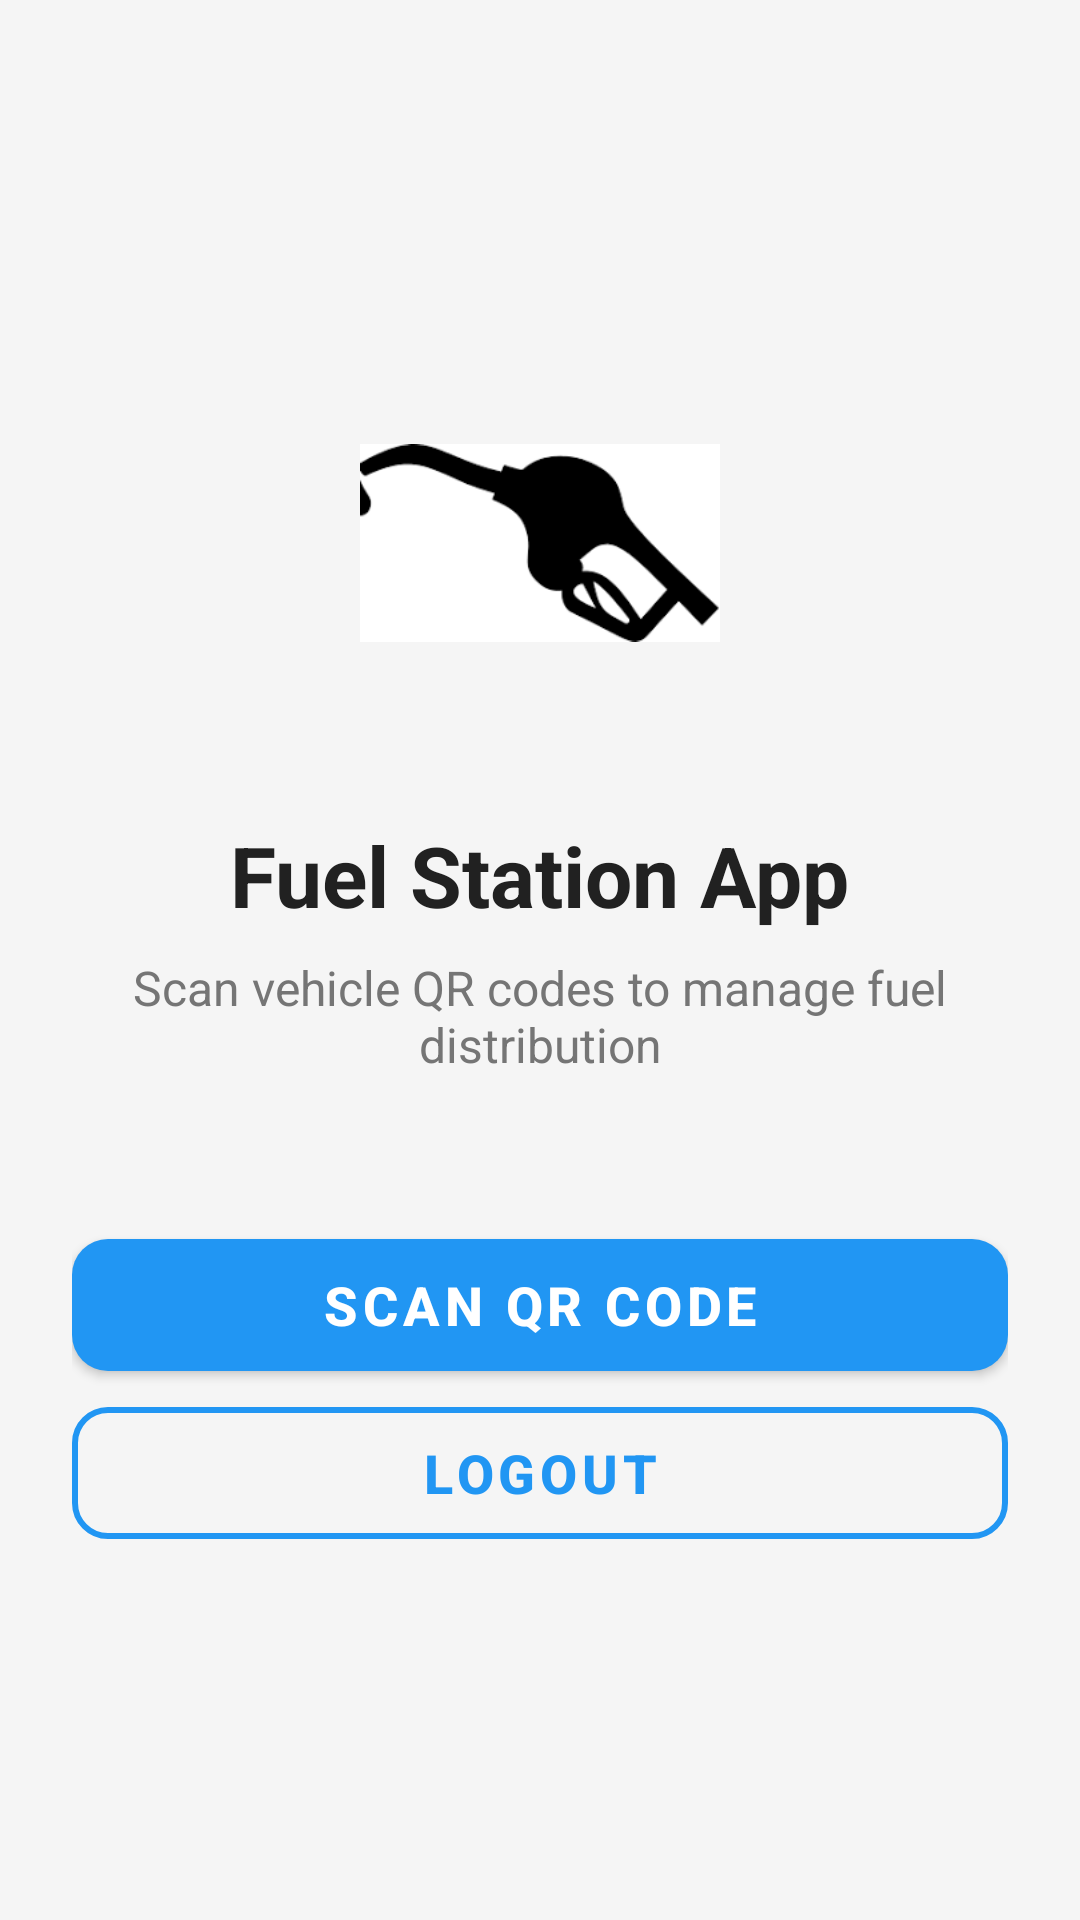

Named icons in this screenshot (1080px x 1920px) and their centers, [x,y]:
Fuel pump icon: [540,543]
